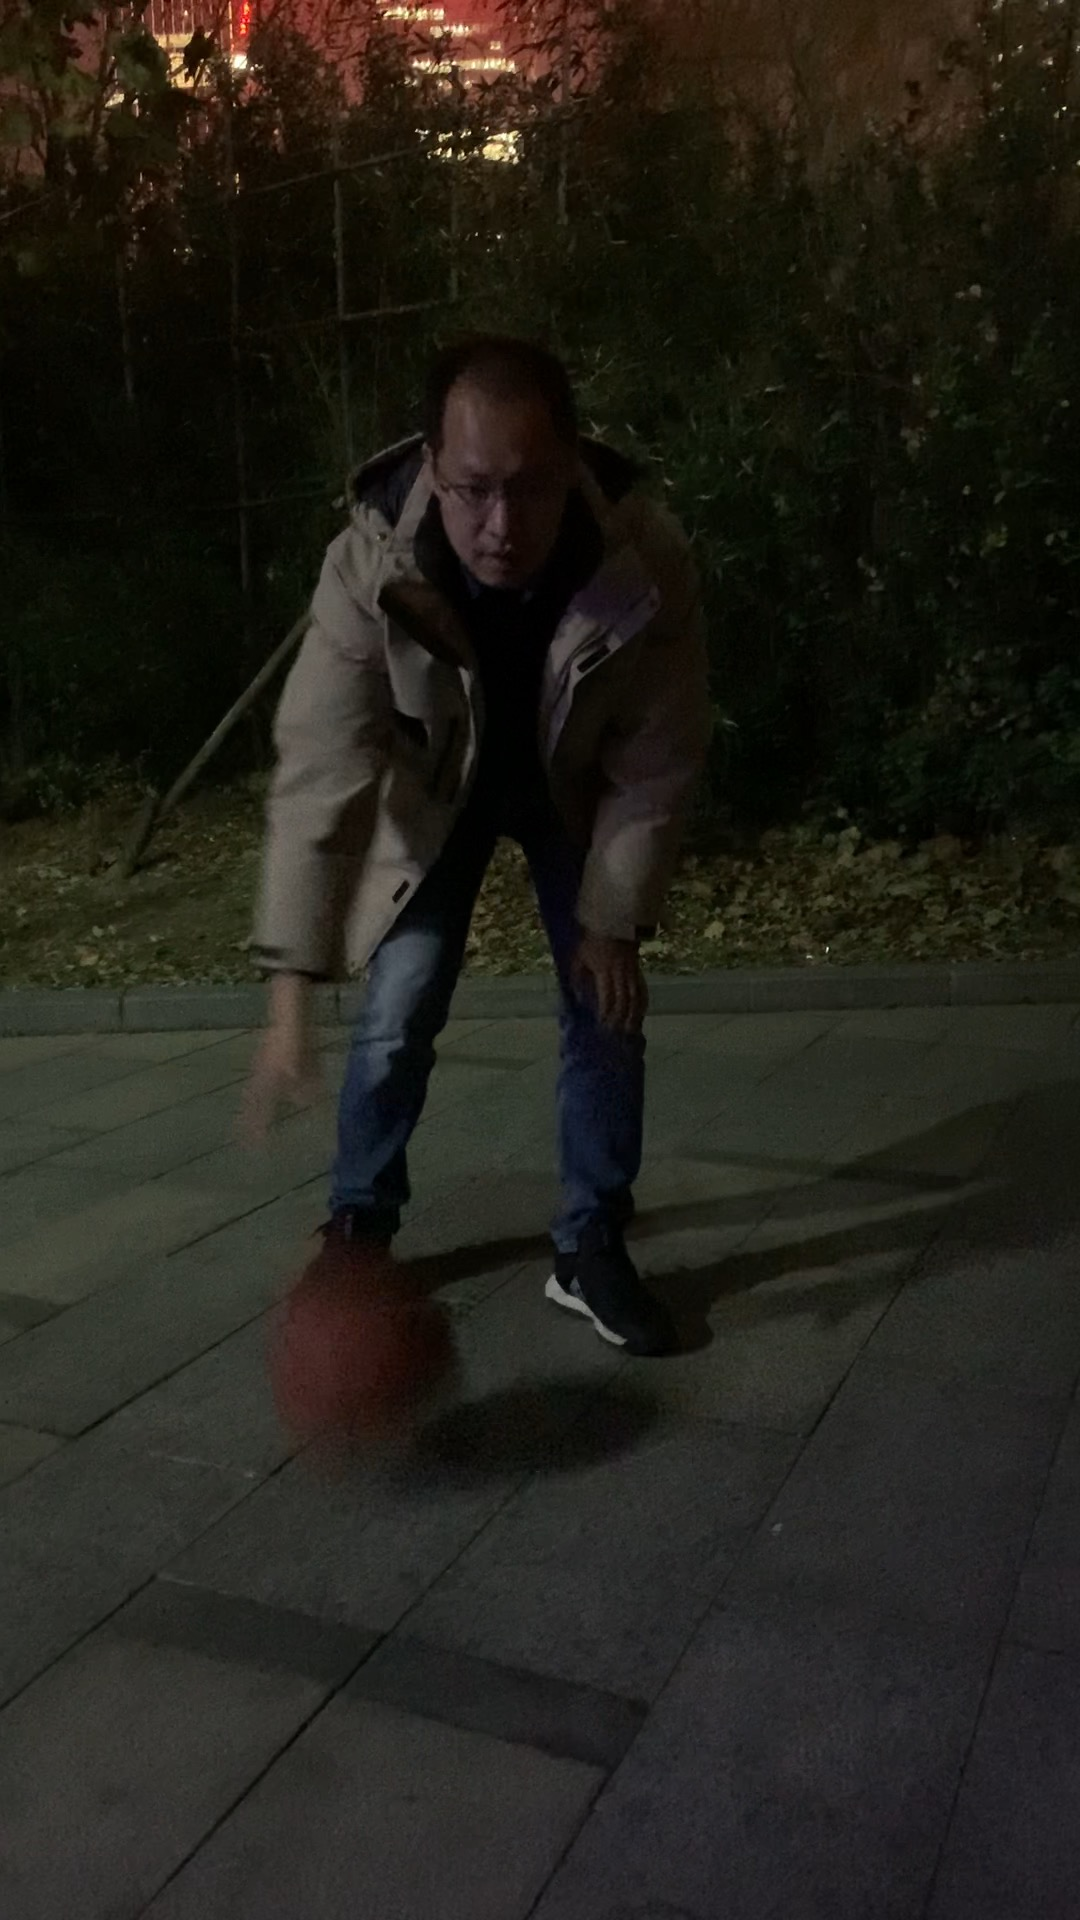ball: (273, 1282, 473, 1482)
